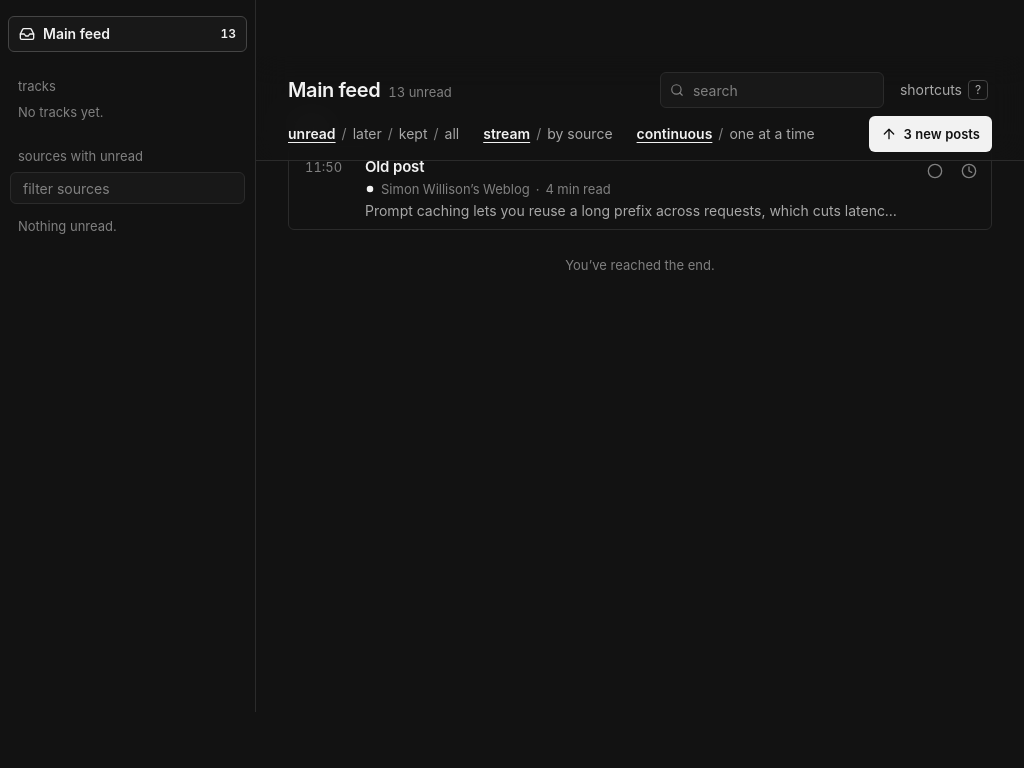
ReaderPage › a rising unread count shows the "N new posts" pill; the list only changes when it is clicked
The image size is (1024, 768).
Expected: the link "Old post" is shown, [365, 157, 424, 176]
Expected: the text "Brand new post" is not shown
Click the button "3 new posts" at (931, 134), box [870, 116, 992, 152]
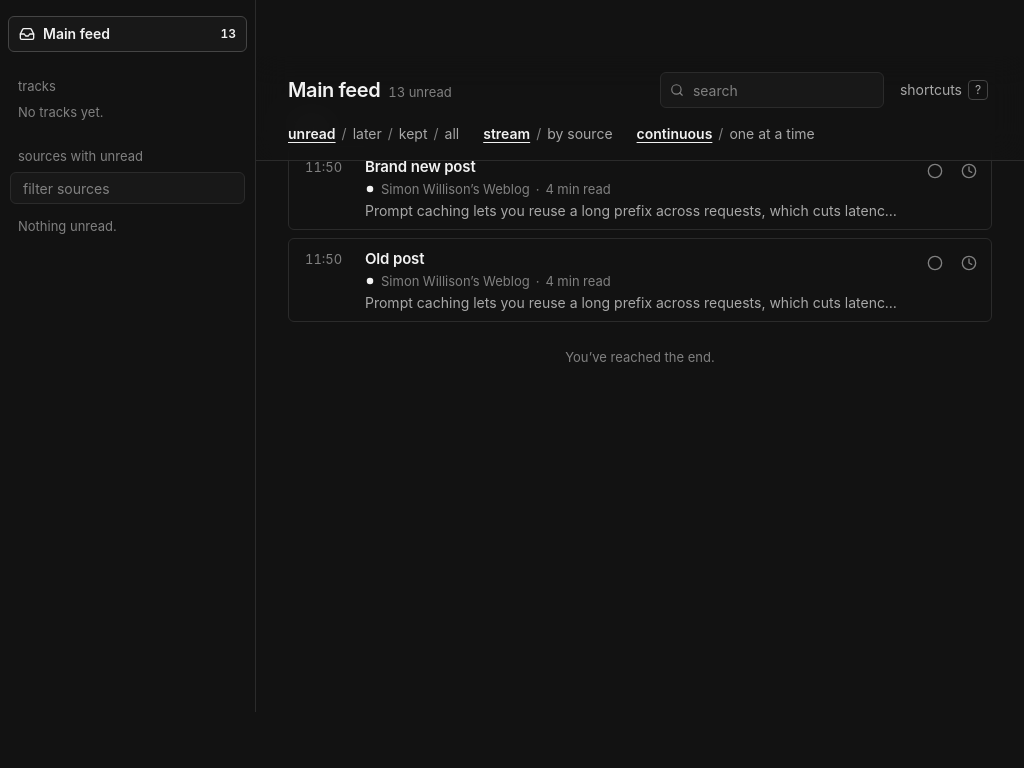
Result: the link "Brand new post" is shown at [365, 157, 476, 176]
Result: the button "new posts" is gone
